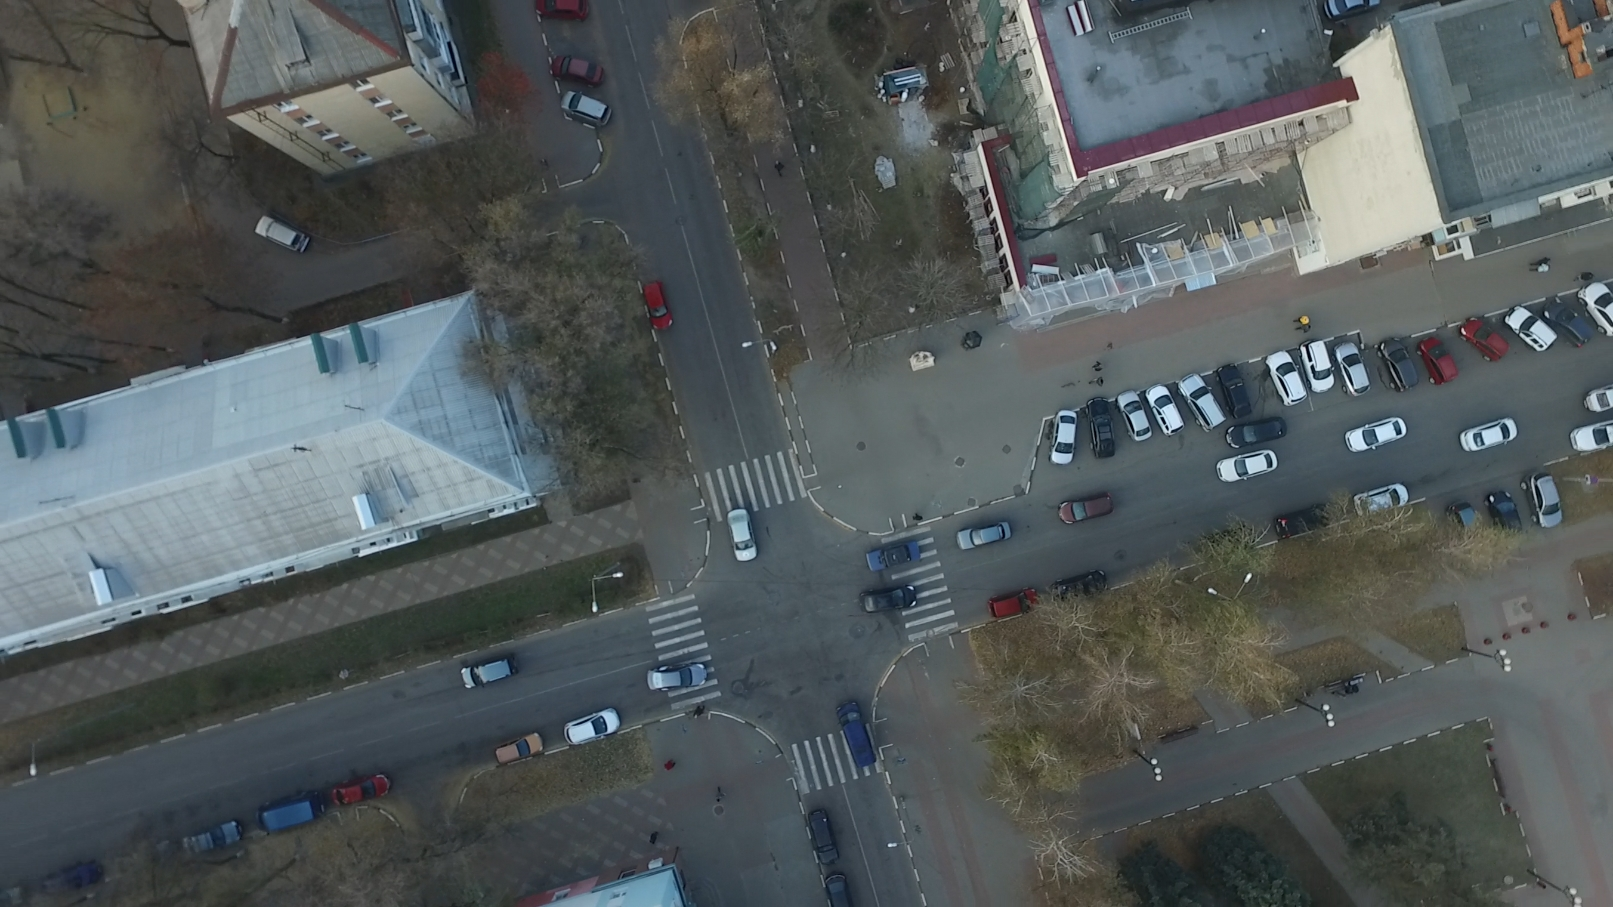car: (251, 790, 320, 835), (1178, 372, 1226, 433), (834, 701, 879, 765), (1273, 498, 1340, 540), (1504, 307, 1557, 360), (1376, 334, 1418, 396), (1544, 293, 1592, 348), (1459, 315, 1510, 364), (254, 212, 309, 257), (1521, 468, 1563, 526), (1345, 415, 1407, 453), (182, 816, 237, 858), (37, 862, 103, 896), (1266, 348, 1306, 403), (559, 86, 610, 130), (1459, 414, 1516, 453), (1334, 343, 1373, 399), (1417, 336, 1458, 388), (1352, 481, 1405, 521), (563, 707, 617, 745), (1484, 488, 1524, 540), (331, 772, 388, 808), (459, 655, 518, 689), (1145, 383, 1183, 437), (1578, 280, 1613, 338), (1051, 567, 1107, 604), (1216, 451, 1277, 484), (1226, 415, 1287, 449), (1298, 339, 1335, 394), (1047, 410, 1082, 465), (1118, 389, 1154, 442), (953, 519, 1011, 552), (1216, 364, 1251, 419), (725, 508, 759, 561), (806, 807, 838, 866), (1058, 495, 1117, 526), (552, 53, 604, 87), (1086, 398, 1114, 460), (112, 841, 171, 870), (1195, 526, 1251, 557), (989, 585, 1039, 619), (1447, 499, 1483, 546), (647, 664, 710, 691), (857, 587, 919, 614), (495, 732, 547, 763), (867, 542, 922, 570), (1570, 419, 1613, 452), (644, 281, 672, 329), (1578, 381, 1613, 416), (530, 1, 586, 23), (1321, 1, 1376, 20), (828, 870, 850, 907)
